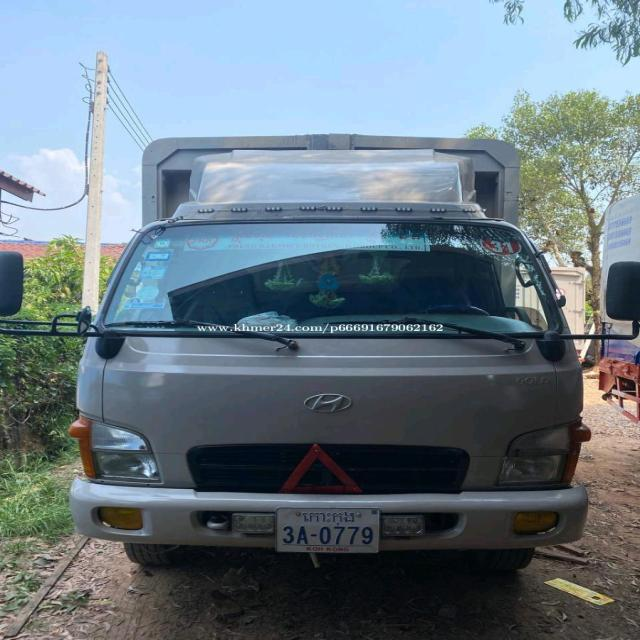Koh_Kong: (302, 510, 356, 526)
